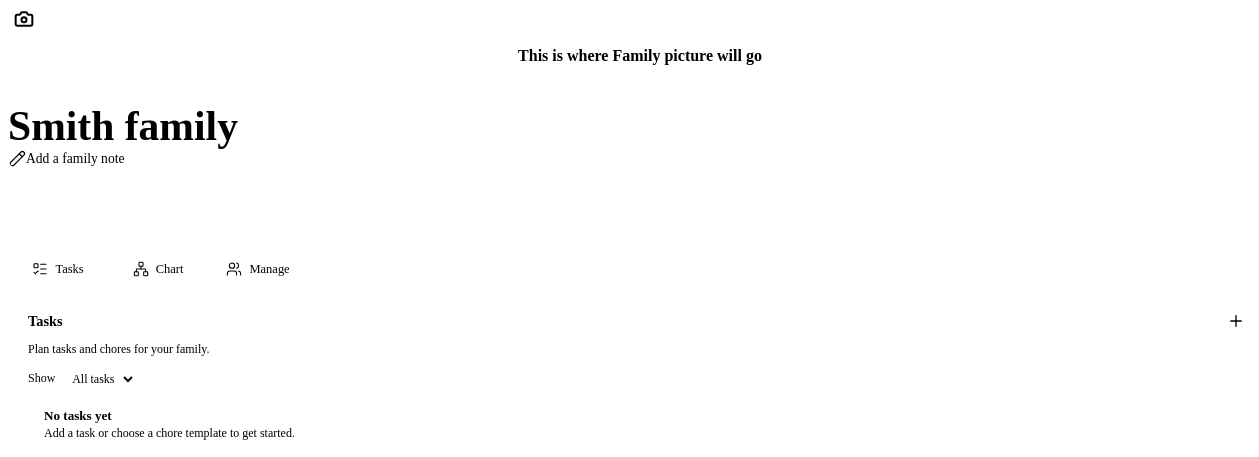
Test: FamilyScreen tabs › shows a relative's name, account role and ID together
Step 1. Click the tab "Manage" → coordinates (258, 269), box x1=208 y1=248 x2=308 y2=290
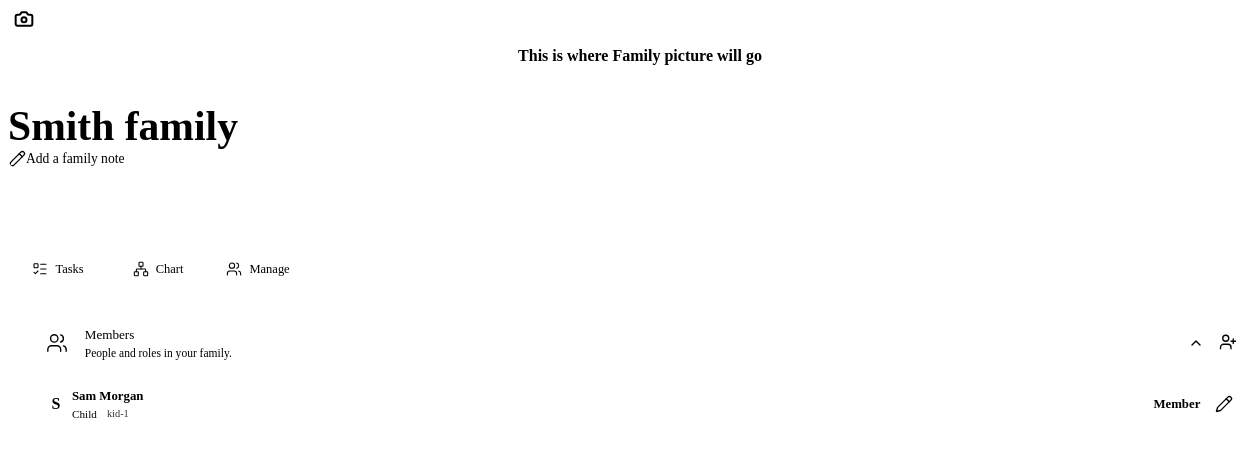
Result: the text "Sam Morgan" is shown at x1=72 y1=388 x2=144 y2=402
Result: the text "Child" is shown at x1=72 y1=408 x2=97 y2=420
Result: the text "kid-1" is shown at x1=107 y1=408 x2=129 y2=420
